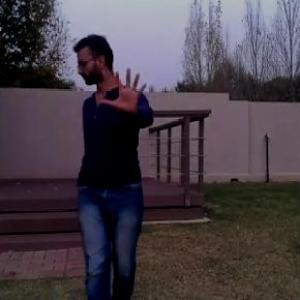follow_hand: (96, 63, 152, 120)
